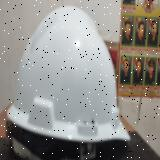Helmet: (6, 7, 131, 142)
